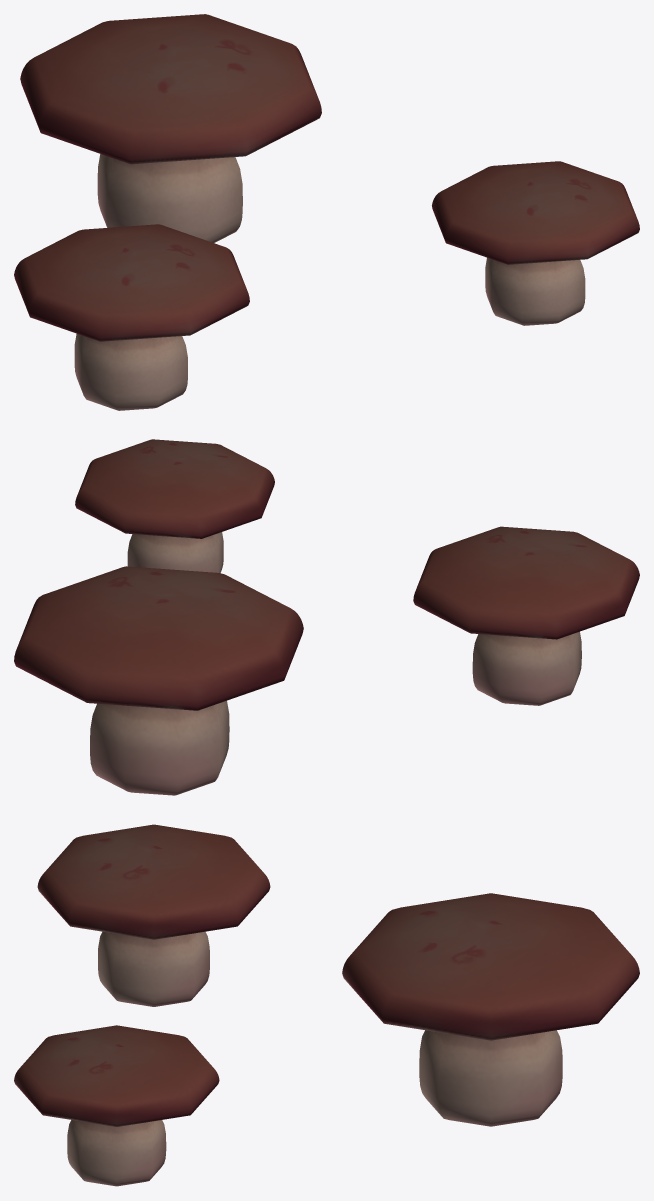
File: Shroom002.glb
3 renders of one model, top to bottom at view 1: azimuth 30°, elevation 25°; view 2: azimuth 150°, elevation 25°; view 3: azimuth 270°, elevation 25°, orthographic. The views are drawn at different scales.
Visible parts, largest first — view 1: Mushroom01.002; view 2: Mushroom01.002; view 3: Mushroom01.002.
Part boxes in pixels (bbox=[...]): Mushroom01.002: bbox=[14, 14, 639, 410]; Mushroom01.002: bbox=[14, 439, 639, 795]; Mushroom01.002: bbox=[14, 824, 639, 1186].
Bounding box in the file's own units: 0.1241 × 0.0376 × 0.1186.
1 material, 1 textured.
